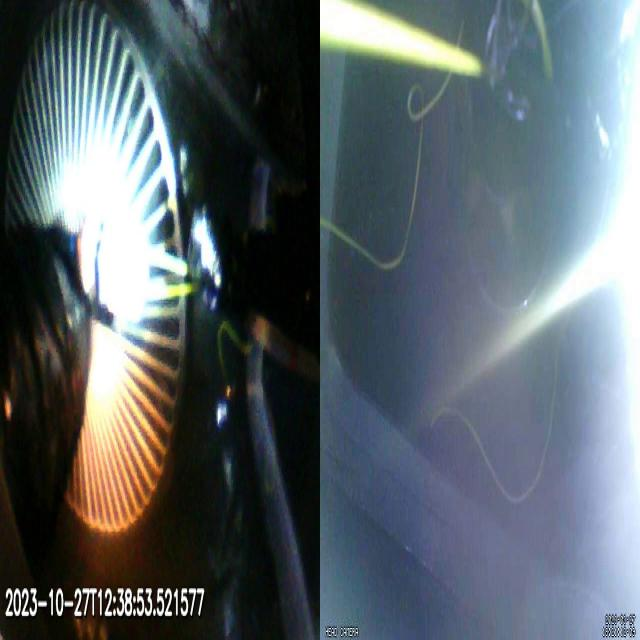head: (79, 211, 149, 322)
